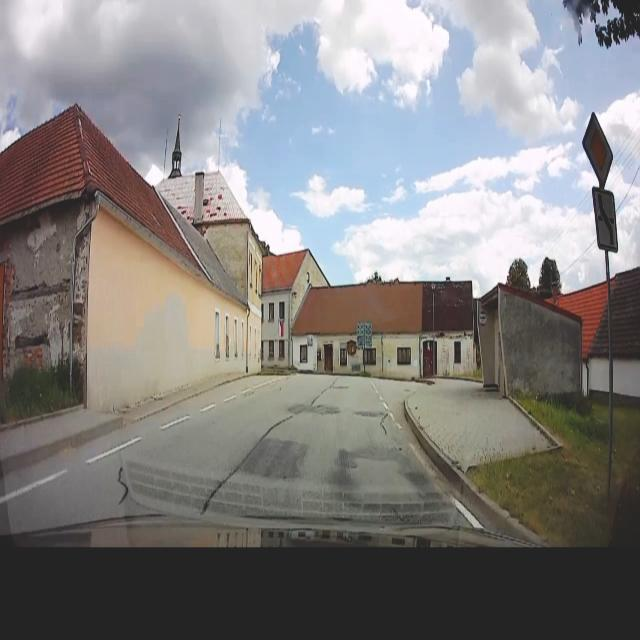Priority road: (579, 105, 615, 191)
